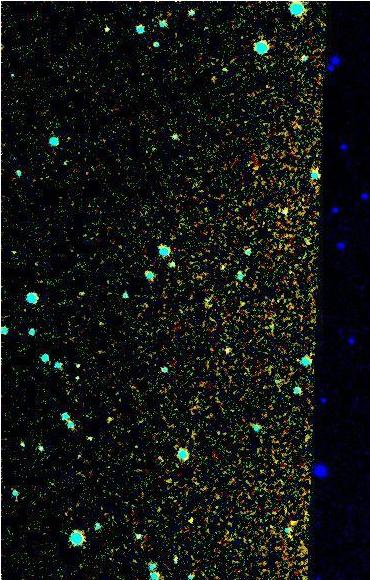star: (278, 510, 308, 540)
